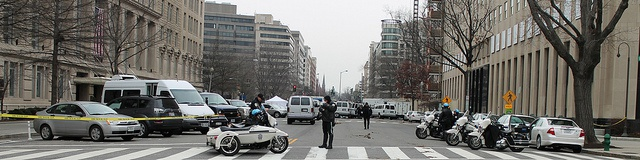non-vehicle: (204, 103, 289, 156), (466, 110, 531, 151), (444, 109, 488, 146), (414, 106, 447, 138)
